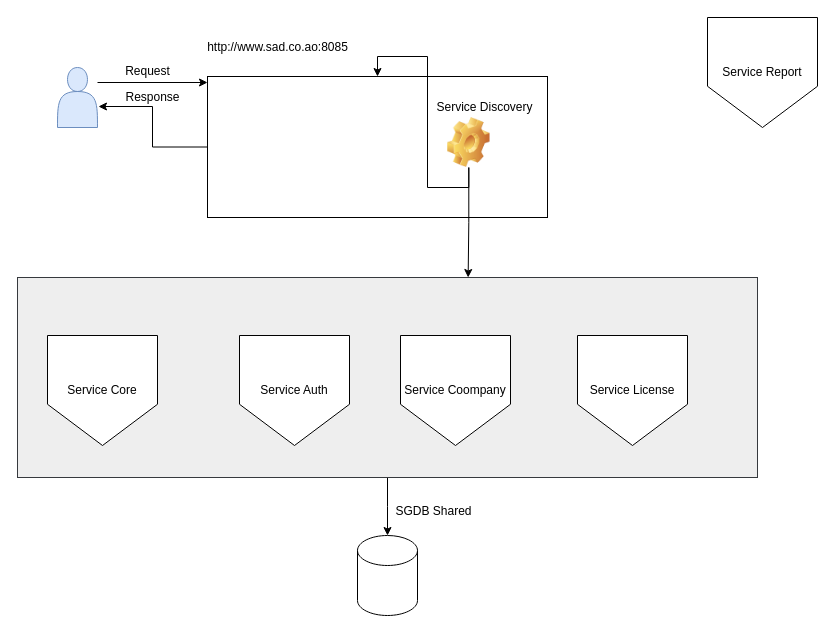
The diagram is 835 pixels wide and 633 high, and some of its shapes have lost their labels. The shapes that lost their labels are listed below. From the top down, each one's box as (x1, y1, x2, y2) in pixels, then its label:
(206, 76, 548, 218): Proxy Reverse and Load Balancer
(356, 534, 418, 616): DBs
